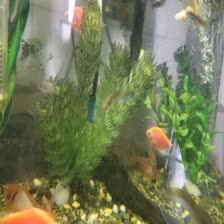Guppy: (184, 8, 214, 29)
Plano: (142, 122, 173, 153)
Transparente: (124, 148, 159, 178)
